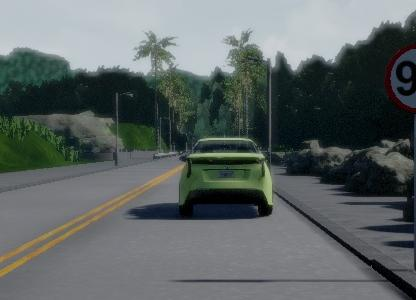Speed_90: (379, 40, 416, 117)
